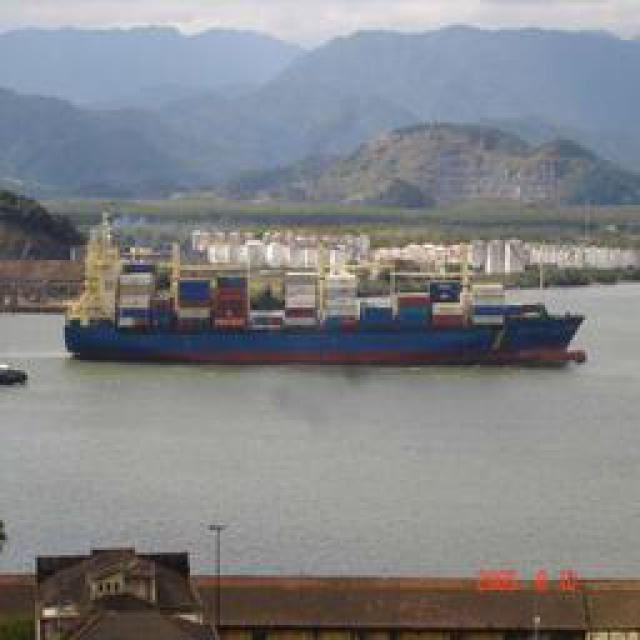Ship: (52, 271, 585, 371)
